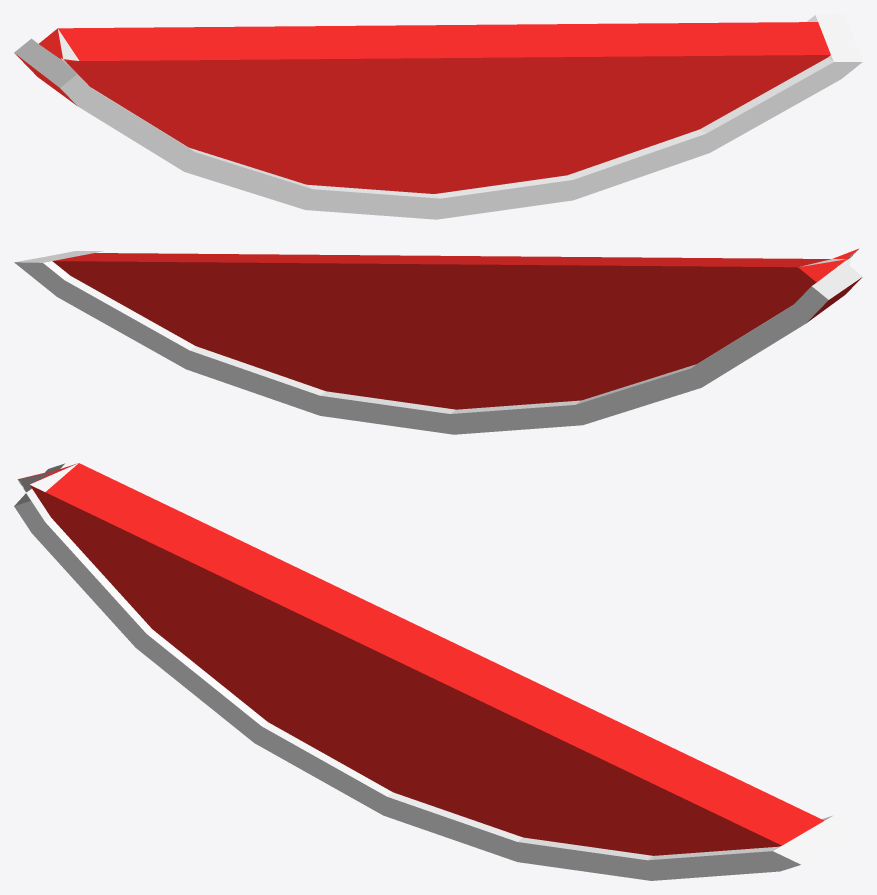
The model's file is StopRedSmallBottom.fbx.
3 views of the same model, one above another, from view 1: azimuth 30°, elevation 25°; view 2: azimuth 150°, elevation 25°; view 3: azimuth 330°, elevation 25° (orthographic).
Parts seen in each view (by area): view 1: StopRedSmall; view 2: StopRedSmall; view 3: StopRedSmall.
Boxes of the visible parts, x1,y1,x2,y2 form: StopRedSmall: (14,14,862,219); StopRedSmall: (14,248,862,434); StopRedSmall: (14,463,862,880).
Bounding box in the file's own units: 1.85 × 0.5665 × 0.1562.
